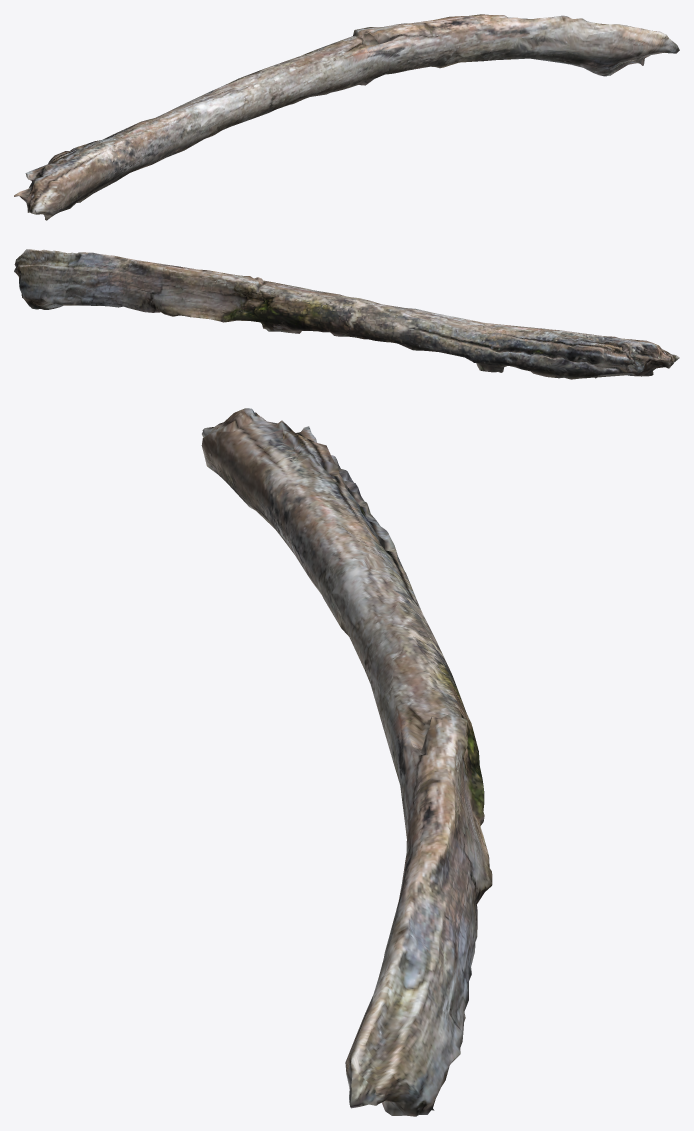
File: SM_Branch_04.fbx
3 renders of one model, top to bottom at view 1: azimuth 30°, elevation 25°; view 2: azimuth 150°, elevation 25°; view 3: azimuth 270°, elevation 25°, orthographic. The views are drawn at different scales.
Parts seen in each view (by area): view 1: SM_Branch_04; view 2: SM_Branch_04; view 3: SM_Branch_04.
Part boxes in pixels (x1,y1,x2,y2): SM_Branch_04: (14, 14, 679, 220); SM_Branch_04: (14, 249, 679, 379); SM_Branch_04: (201, 408, 492, 1116).
Bounding box in the file's own units: 400 × 79.8 × 53.76.
1 material, 1 textured.
